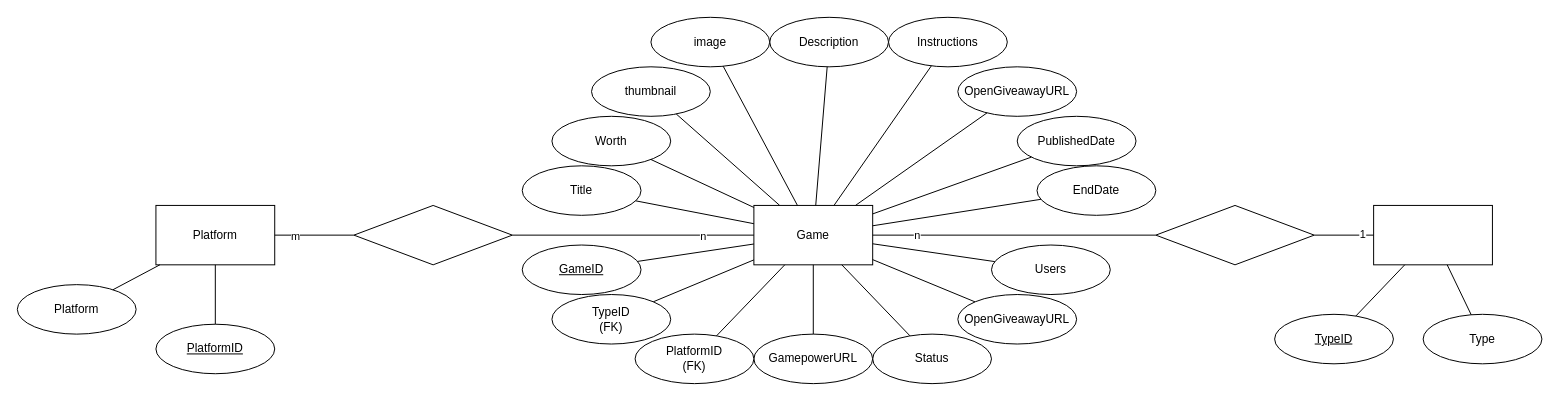
Some shapes in this 1559 by 401 pixel diagram are drawn without their labels. The shapes that lost their labels are listed below. From the top down, each one's centre as x and y in pixels, then its label:
At (432,234): "ist für".
At (1234,234): "ist".
At (1432,234): "GameTyp".
